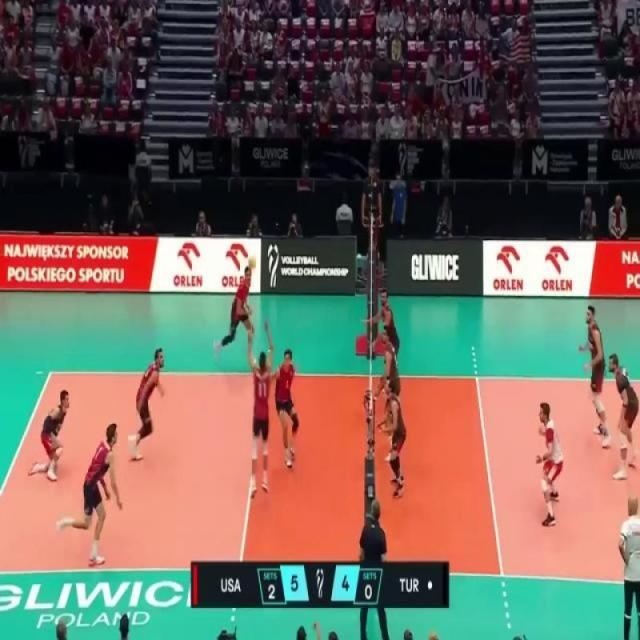volleyball: (246, 254, 258, 271)
